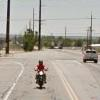Motorcycle: (30, 61, 55, 98)
